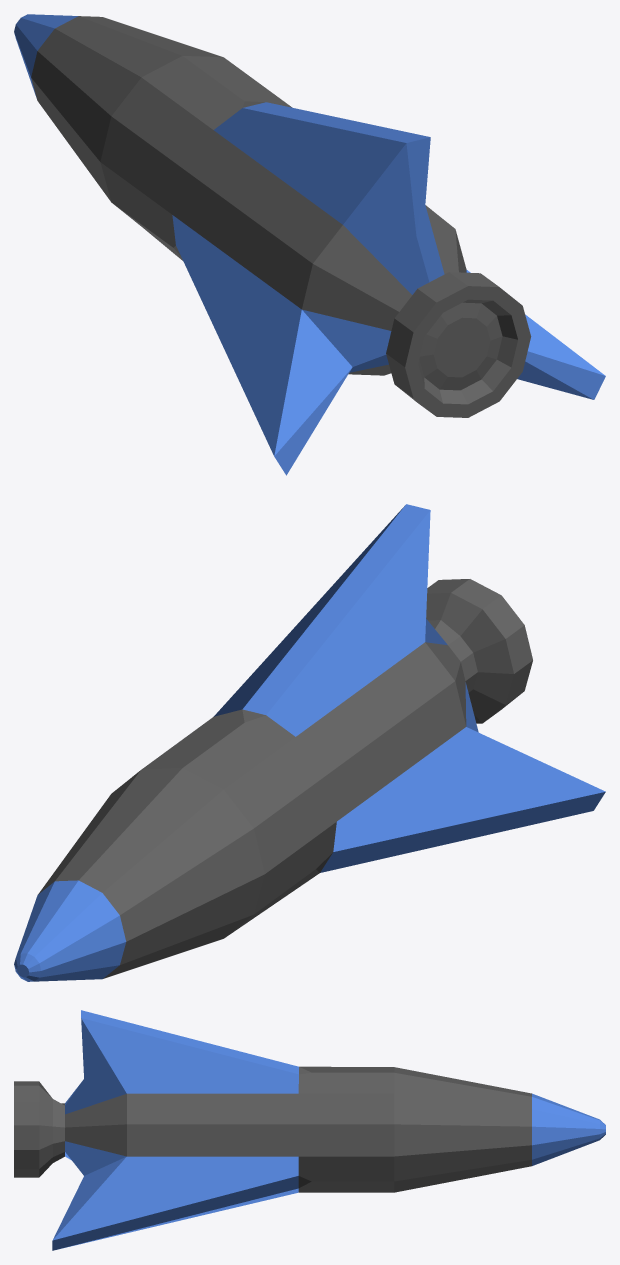
File: Rocket5.fbx
3 views of the same model, one above another, from view 1: azimuth 30°, elevation 25°; view 2: azimuth 150°, elevation 25°; view 3: azimuth 270°, elevation 25° (orthographic). The views are drawn at different scales.
Parts seen in each view (by area): view 1: Cylinder; view 2: Cylinder; view 3: Cylinder.
Boxes of the visible parts, x1,y1,x2,y2 form: Cylinder: (14,14,605,475); Cylinder: (14,504,605,981); Cylinder: (14,1010,605,1250).
Size of the model in its own units: 403 by 328 by 939.
